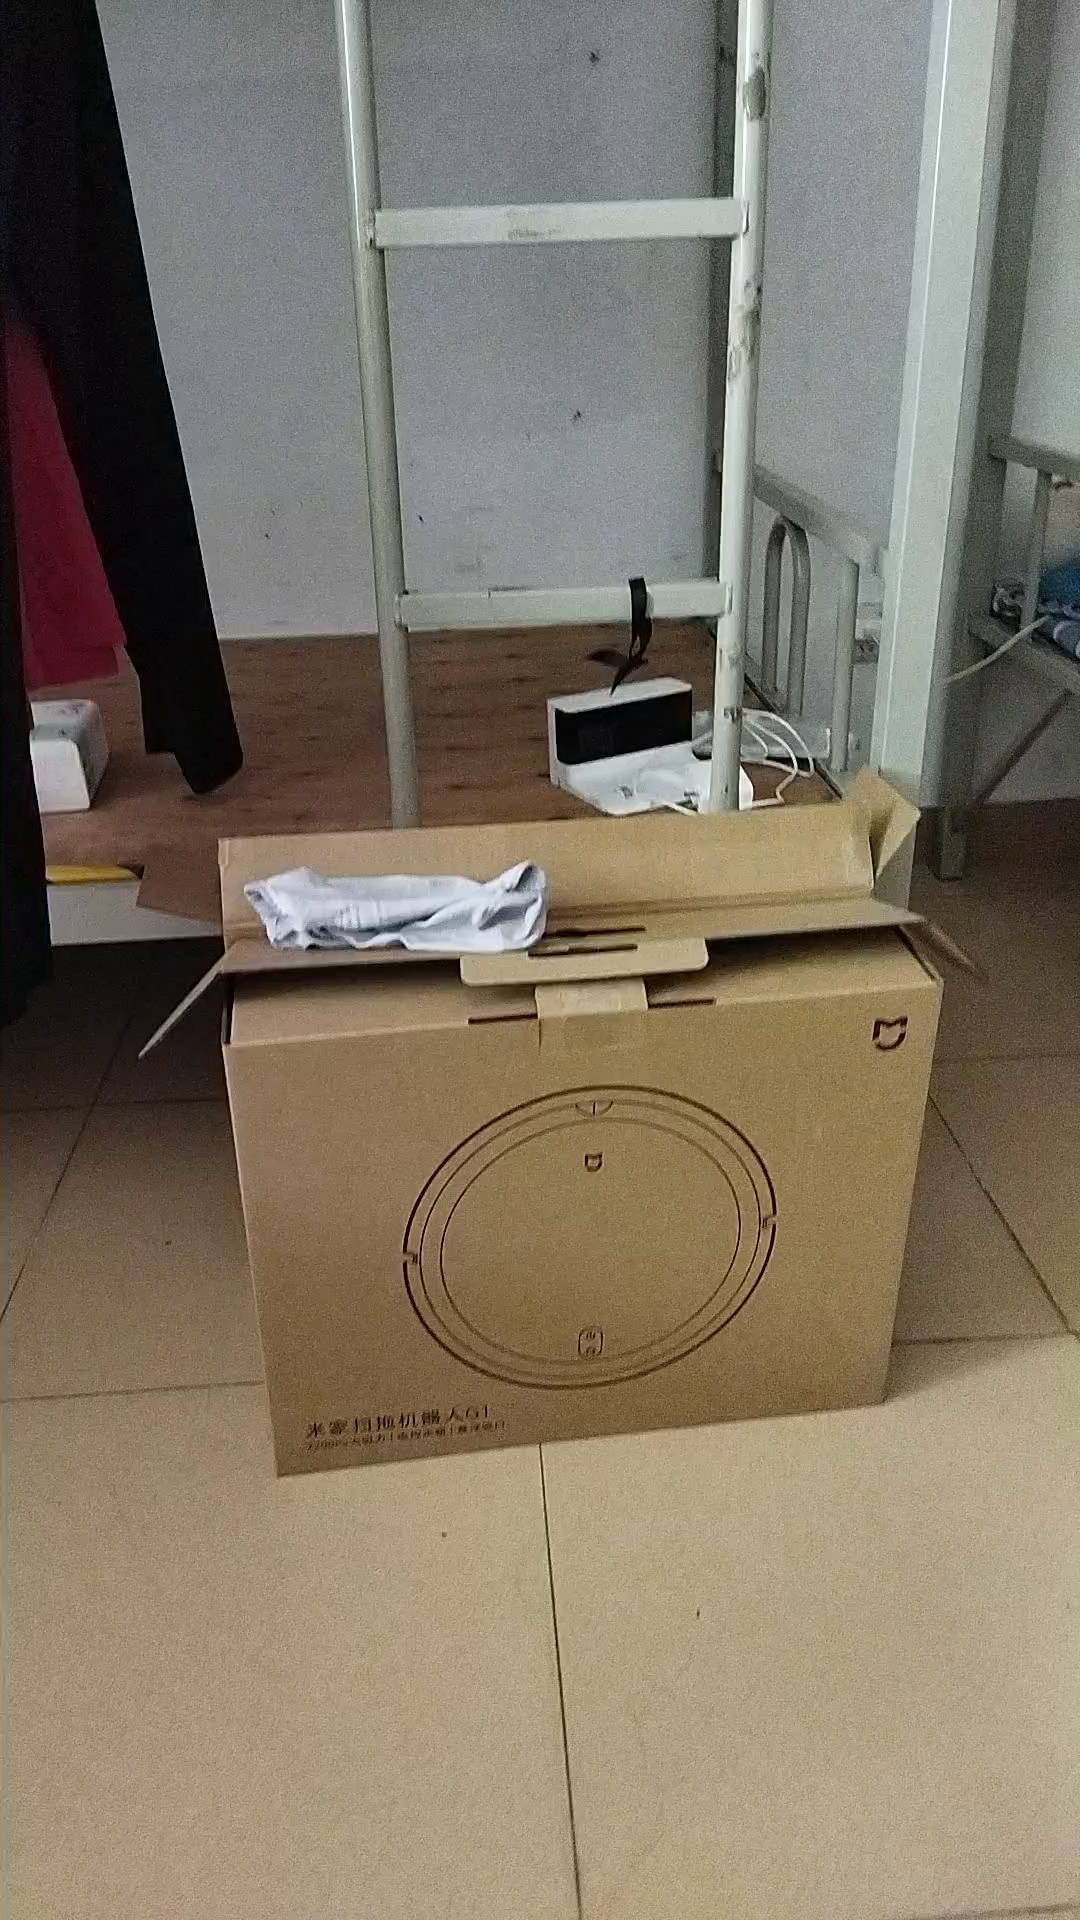recharge seat: (549, 676, 711, 806)
